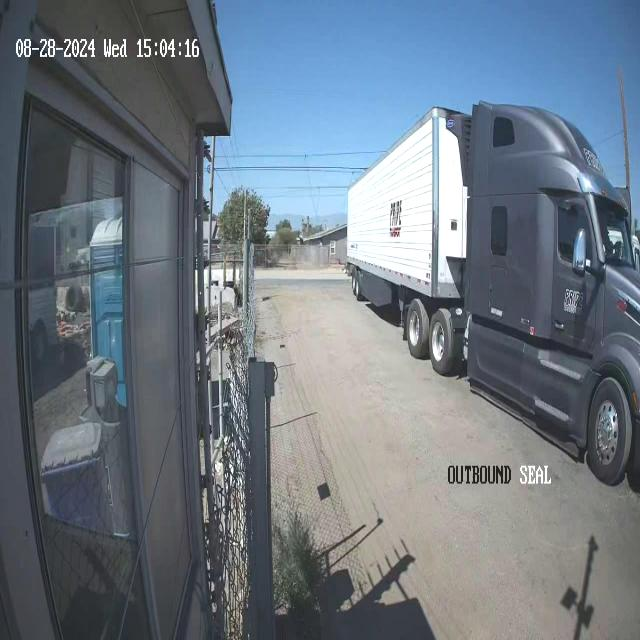CONTAINER: (346, 98, 474, 312)
